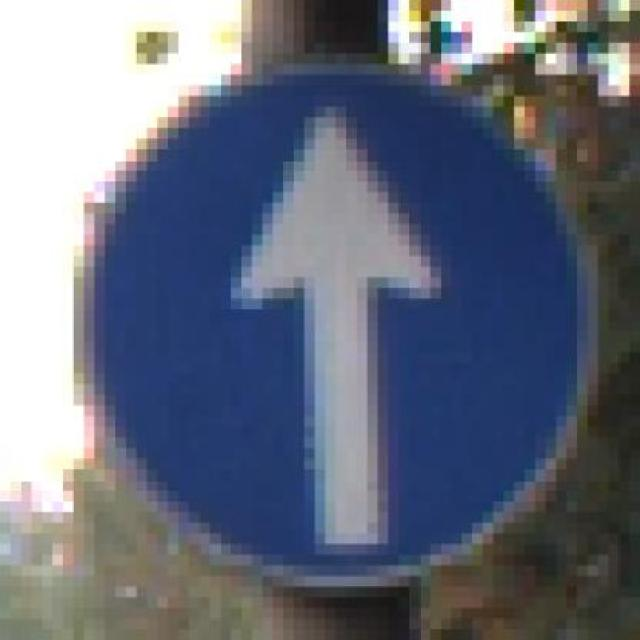Straight Ahead Only: (73, 53, 609, 609)
